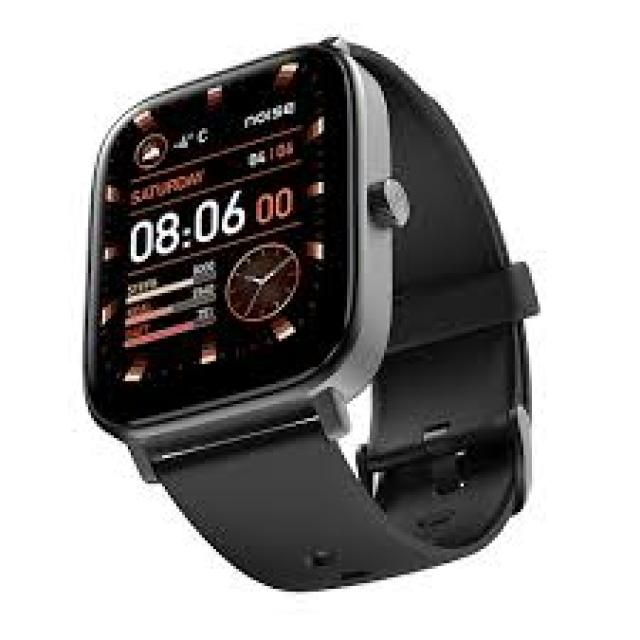objects: (81, 35, 532, 595)
